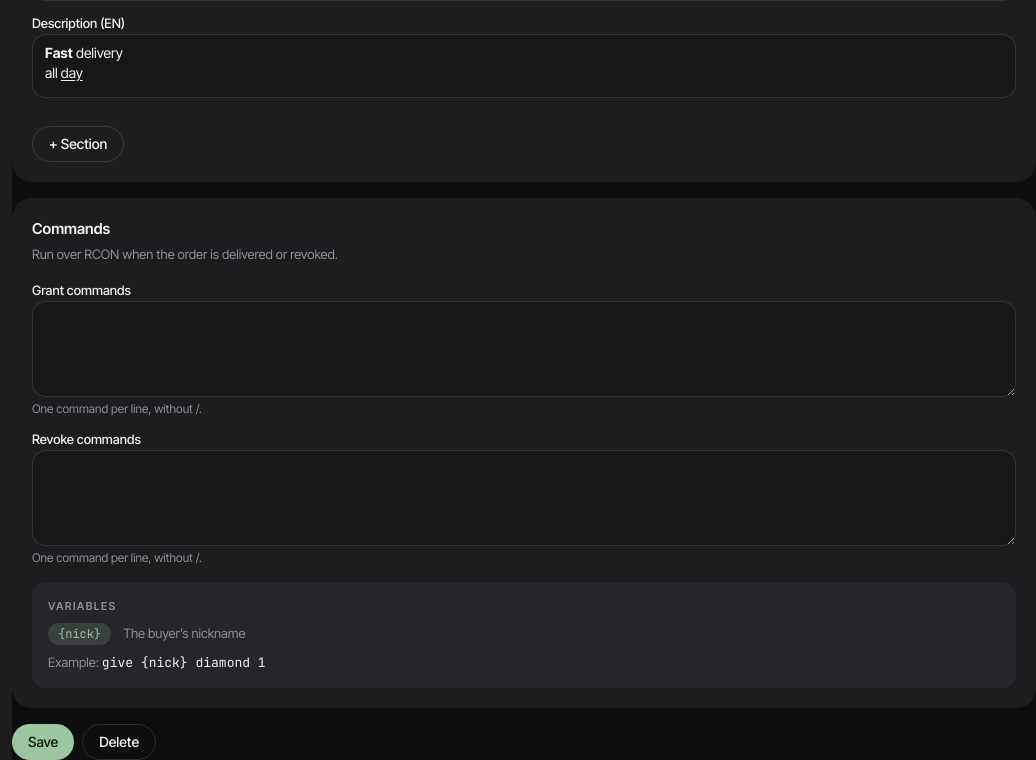
Test: ProductEditor › an enabled product › saves a formatted multi-line description as markdown
The width and height of the screenshot is (1036, 760).
(page scrolled)
Click the button "Save" at (43, 742), box [12,724,74,759]
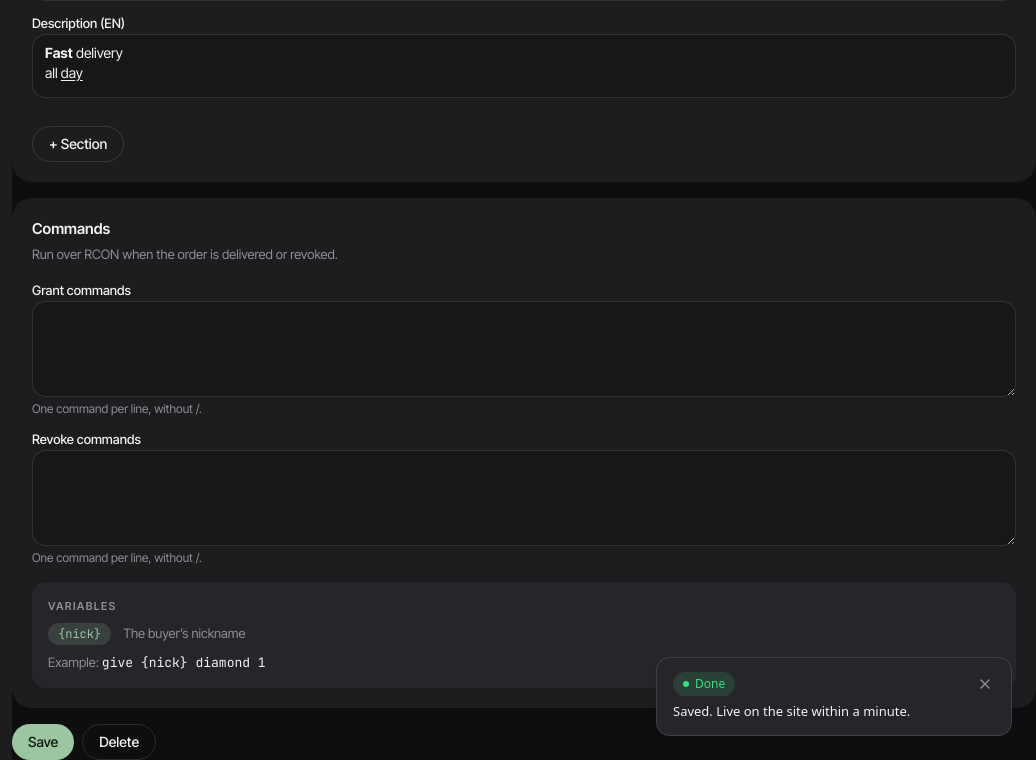
Expected: the text "Saved. Live on the site within a minute." is shown, [673,702,910,721]
